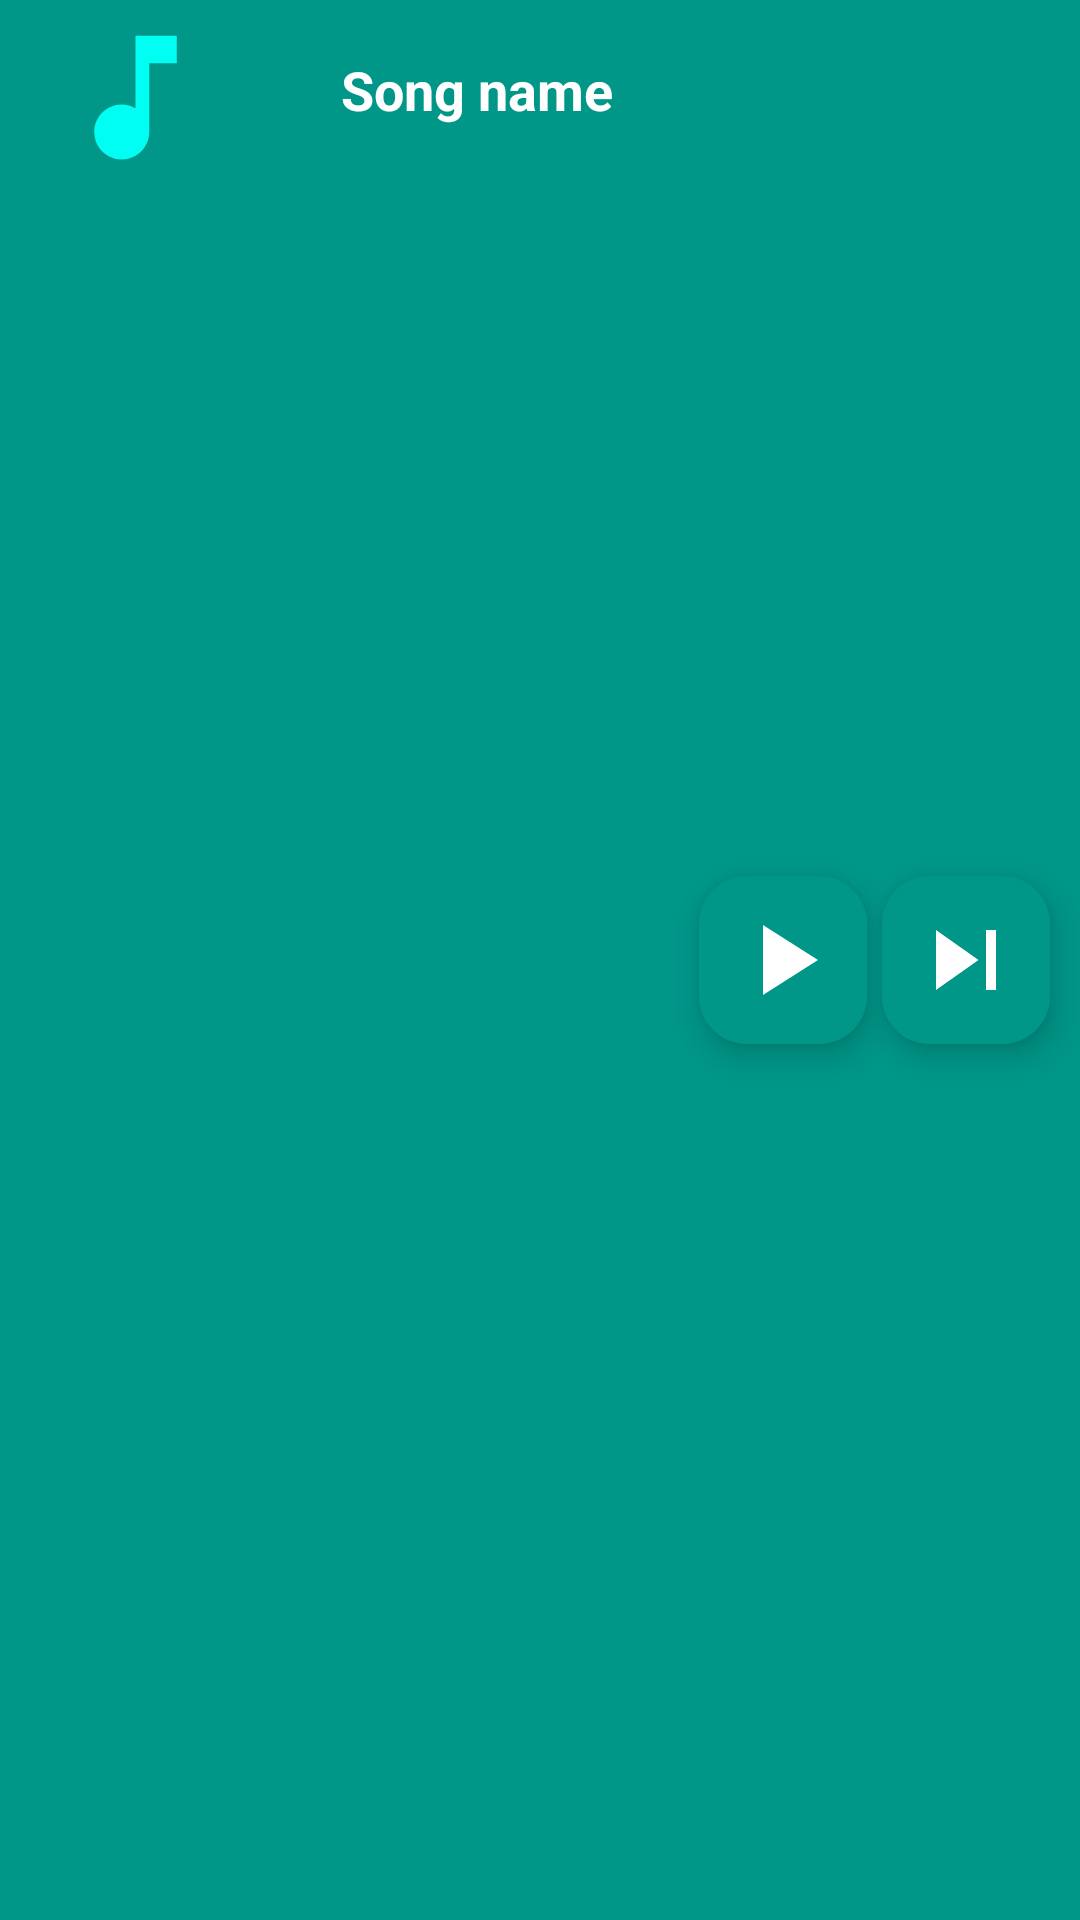

Icons on this 1080x1920 Android screen, each with its box as {"left": x1, "top": y1, "right": x2, "bottom": y2}:
music note: {"left": 94, "top": 35, "right": 177, "bottom": 160}
next: {"left": 936, "top": 930, "right": 1028, "bottom": 1043}
play: {"left": 763, "top": 925, "right": 818, "bottom": 995}
